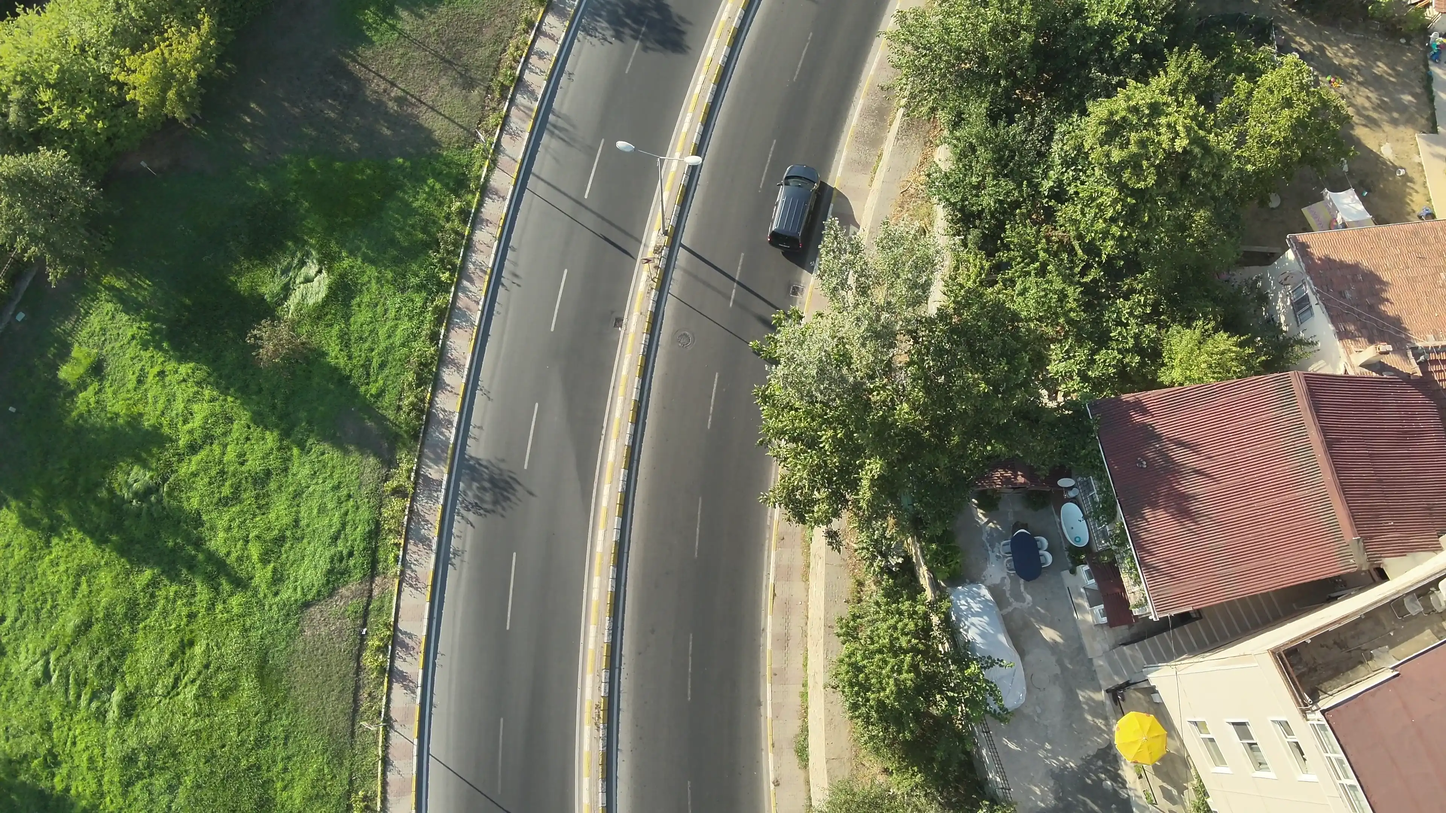vehicle: (767, 162, 823, 248)
